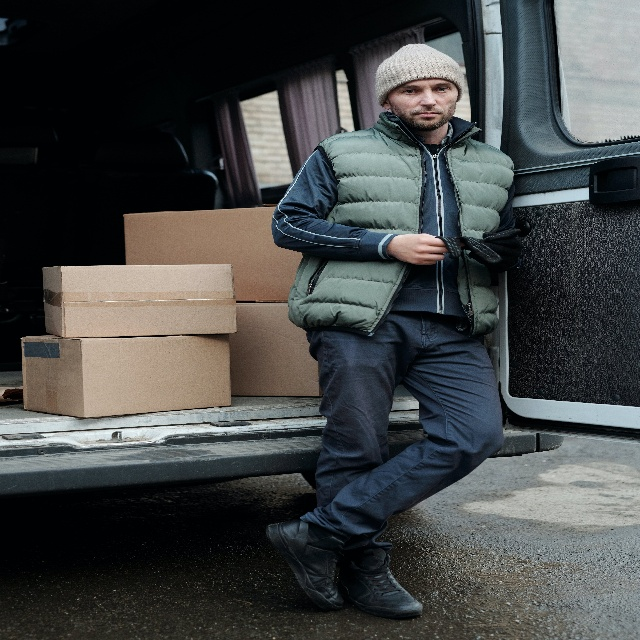Guantes: (434, 226, 524, 264)
Sin_guantes: (392, 234, 450, 266)
